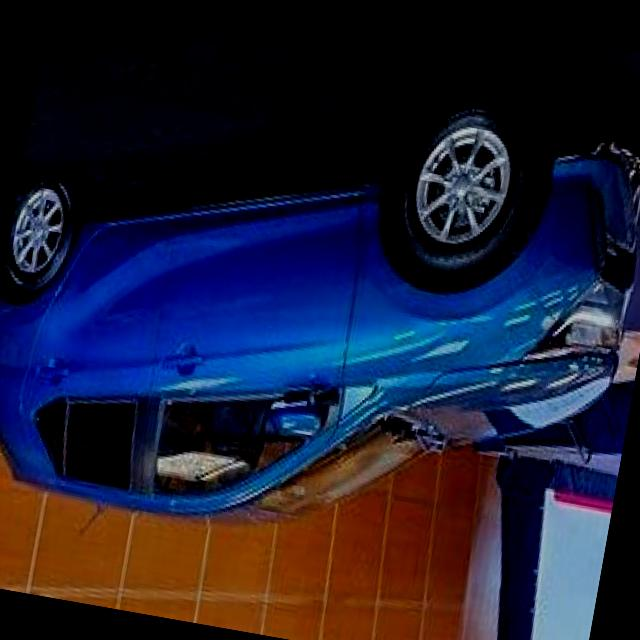PeroduaAxia: (0, 27, 640, 592)
